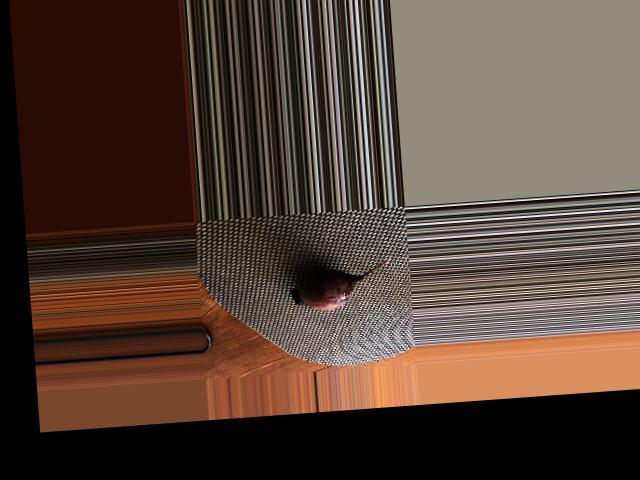beet: (288, 254, 394, 312)
